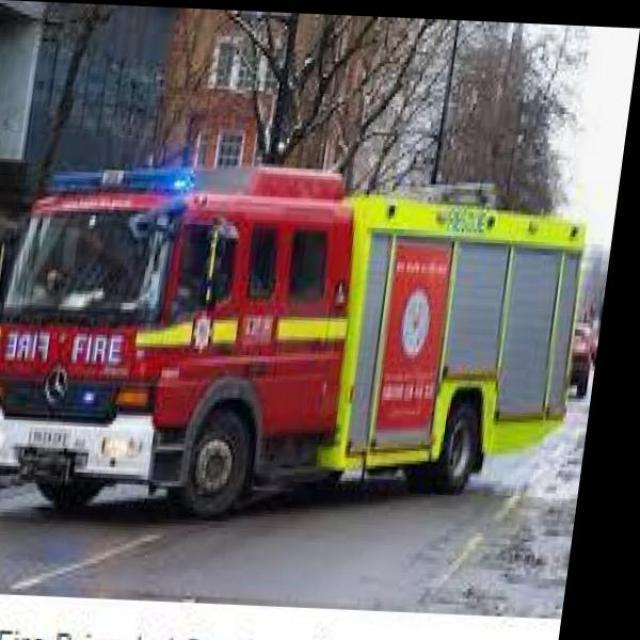emergency: (0, 162, 592, 518)
